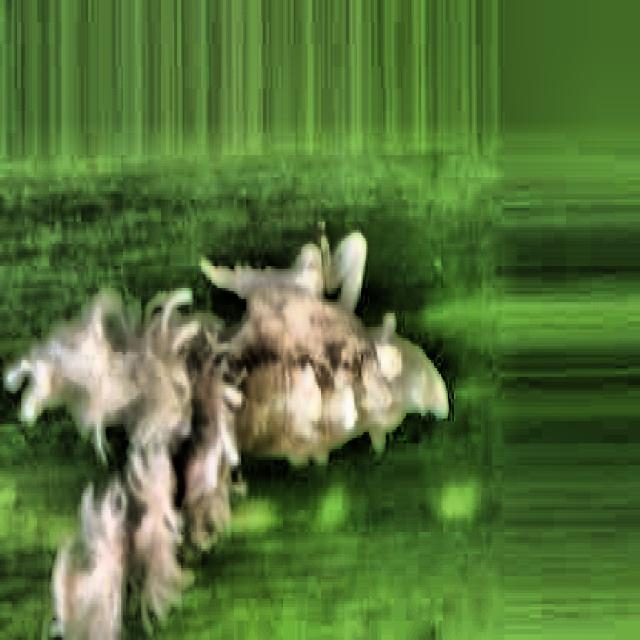Pyrilla-perpusilla: (0, 185, 477, 640)
